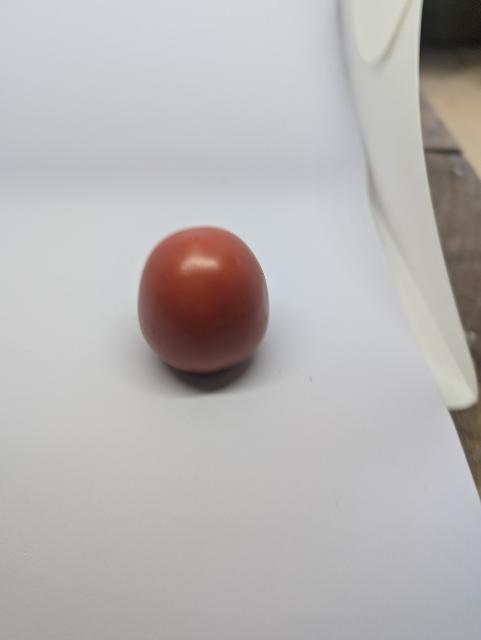red: (135, 220, 277, 384)
